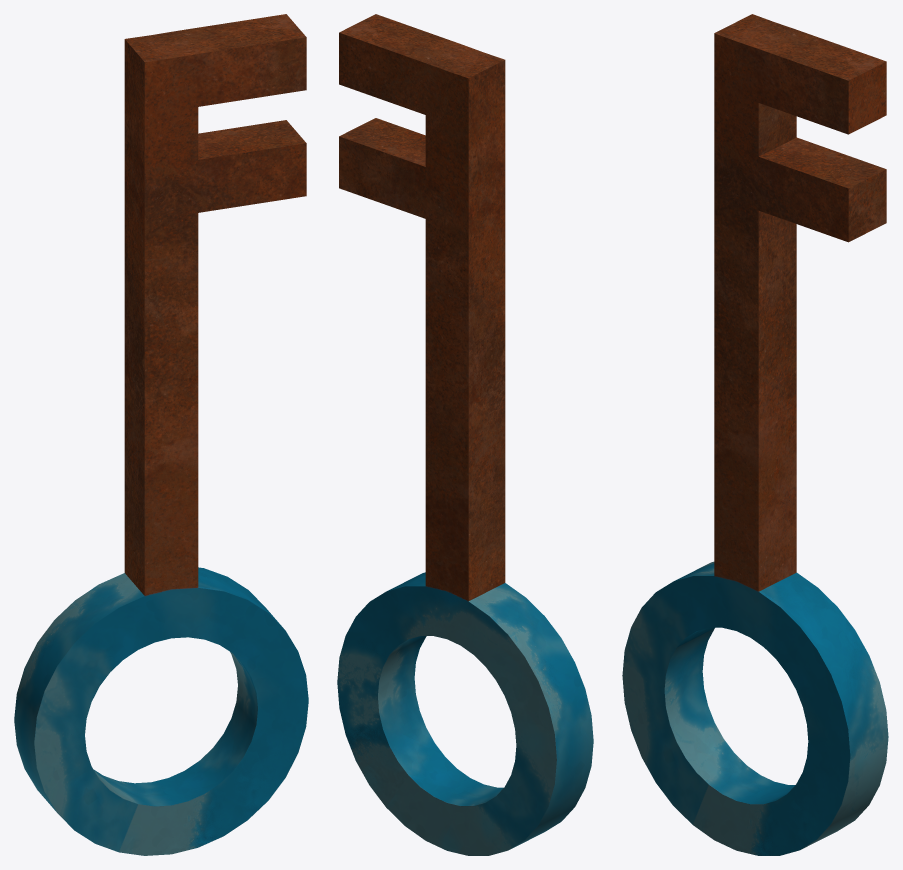
The model's file is key.fbx.
3 renders of one model, left to right at view 1: azimuth 30°, elevation 25°; view 2: azimuth 150°, elevation 25°; view 3: azimuth 330°, elevation 25°, orthographic. The views are drawn at different scales.
Visible parts, largest first — view 1: Key; view 2: Key; view 3: Key.
Part boxes in pixels (<box>): Key: <box>14,14,308,855</box>; Key: <box>337,14,593,855</box>; Key: <box>622,14,888,855</box>.
Size of the model in its own units: 0.2315 by 0.6825 by 0.0839.
